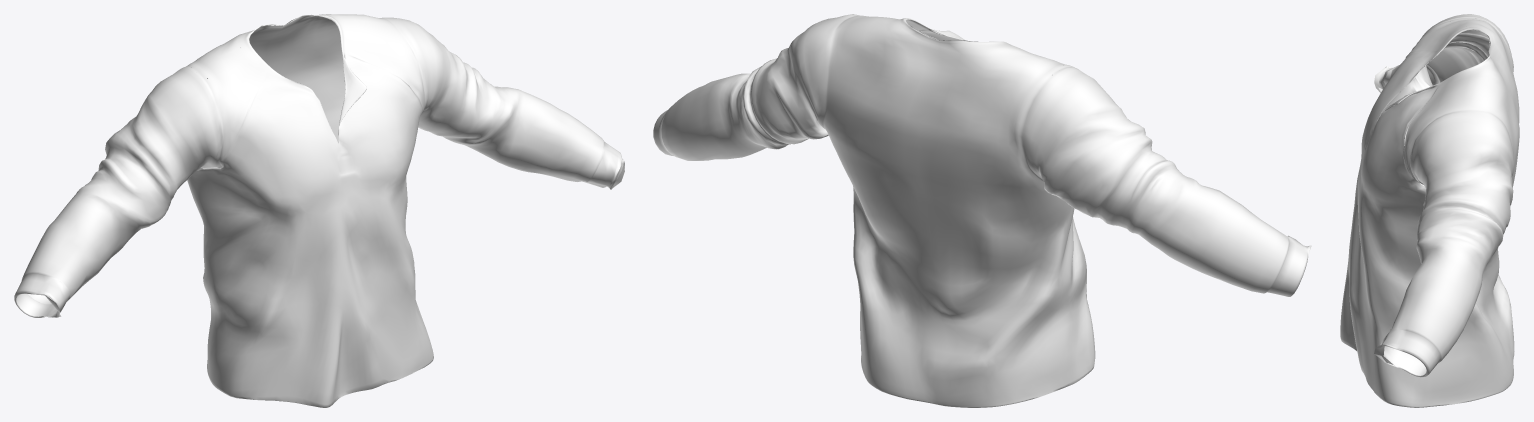
The model's file is LongSleeve.glb.
The picture shows the model from 3 angles, left to right: view 1: azimuth 30°, elevation 25°; view 2: azimuth 150°, elevation 25°; view 3: azimuth 270°, elevation 25°; orthographic projection. The views are drawn at different scales.
Visible parts, largest first — view 1: Newport_Shirt_10879; view 2: Newport_Shirt_10879; view 3: Newport_Shirt_10879.
Boxes of the visible parts, x1,y1,x2,y2 form: Newport_Shirt_10879: [14, 14, 624, 407]; Newport_Shirt_10879: [653, 14, 1311, 407]; Newport_Shirt_10879: [1340, 14, 1519, 407].
Bounding box in the file's own units: 22.16 × 11.75 × 5.99.
1 material, 1 textured.
